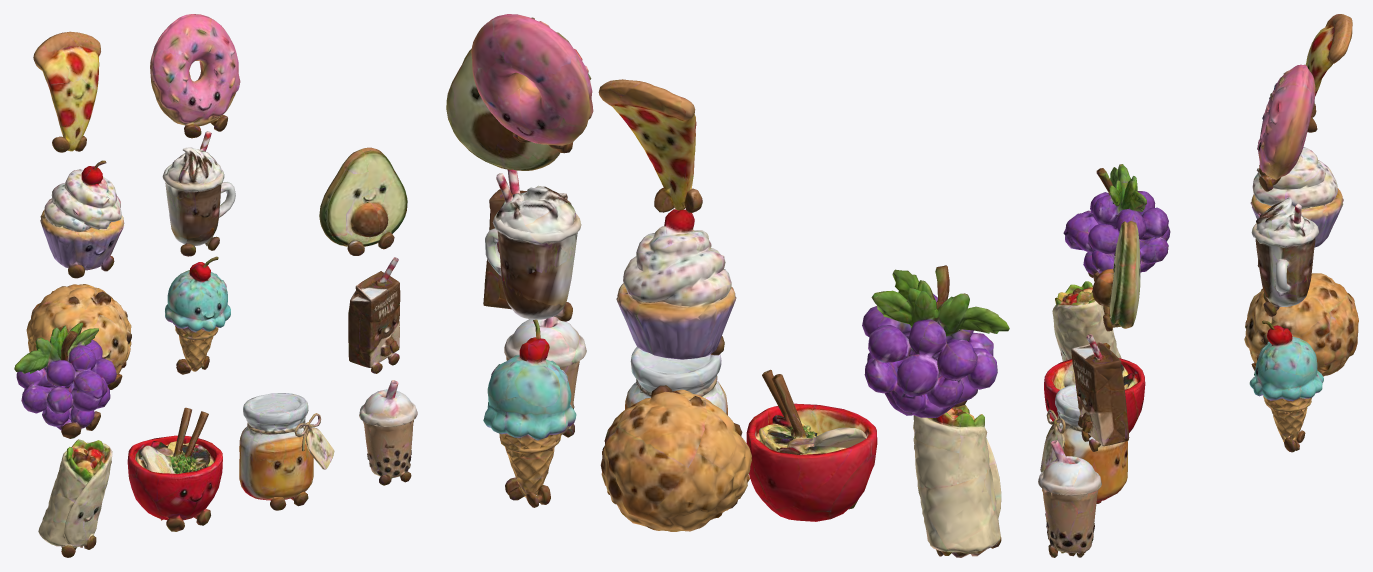
3 views of the same model, side by side, from view 1: azimuth 30°, elevation 25°; view 2: azimuth 150°, elevation 25°; view 3: azimuth 270°, elevation 25° (orthographic). The views are drawn at different scales.
Visible parts, largest first — view 1: Mesh 8, Mesh 7, Mesh 1, Mesh 4, Mesh 12, Mesh 5, Mesh 2, Mesh 6, Mesh 9, Mesh 3, Mesh 10, Mesh 14 (+1 smaller); view 2: Mesh 3, Mesh 1, Mesh 4, Mesh 5, Mesh 8, Mesh 2, Mesh 9, Mesh 10, Mesh 6, Mesh 12, Mesh 7, Mesh 13 (+1 smaller); view 3: Mesh 1, Mesh 3, Mesh 10, Mesh 9, Mesh 13, Mesh 14, Mesh 8, Mesh 5, Mesh 7, Mesh 12, Mesh 2, Mesh 4 (+1 smaller).
Part boxes in pixels (left/top/right/bottom): Mesh 8: left=150, top=14, right=240, bottom=138; Mesh 7: left=239, top=393, right=334, bottom=510; Mesh 1: left=14, top=322, right=116, bottom=438; Mesh 4: left=127, top=407, right=222, bottom=531; Mesh 12: left=319, top=147, right=407, bottom=255; Mesh 5: left=40, top=160, right=124, bottom=278; Mesh 2: left=38, top=439, right=112, bottom=557; Mesh 6: left=33, top=31, right=100, bottom=152; Mesh 9: left=162, top=131, right=235, bottom=256; Mesh 3: left=26, top=284, right=131, bottom=389; Mesh 10: left=165, top=256, right=230, bottom=374; Mesh 14: left=348, top=257, right=400, bottom=373; Mesh 3: left=600, top=385, right=751, bottom=531; Mesh 1: left=862, top=265, right=1009, bottom=417; Mesh 4: left=746, top=369, right=877, bottom=521; Mesh 5: left=616, top=209, right=736, bottom=359; Mesh 8: left=471, top=14, right=593, bottom=153; Mesh 2: left=913, top=405, right=1001, bottom=557; Mesh 9: left=485, top=173, right=581, bottom=321; Mesh 10: left=483, top=319, right=576, bottom=507; Mesh 6: left=598, top=79, right=702, bottom=212; Mesh 12: left=446, top=49, right=559, bottom=170; Mesh 7: left=625, top=347, right=727, bottom=415; Mesh 13: left=504, top=316, right=586, bottom=437; Mesh 1: left=1063, top=164, right=1170, bottom=281; Mesh 3: left=1244, top=273, right=1358, bottom=376; Mesh 10: left=1249, top=320, right=1323, bottom=452; Mesh 9: left=1251, top=197, right=1318, bottom=316; Mesh 13: left=1038, top=440, right=1101, bottom=557; Mesh 14: left=1071, top=334, right=1129, bottom=451; Mesh 8: left=1257, top=64, right=1315, bottom=191; Mesh 5: left=1250, top=147, right=1343, bottom=247; Mesh 7: left=1040, top=384, right=1127, bottom=503; Mesh 12: left=1092, top=221, right=1140, bottom=331; Mesh 2: left=1052, top=281, right=1121, bottom=361; Mesh 4: left=1044, top=343, right=1145, bottom=432.
Size of the model in its own units: 1.9 by 1.86 by 1.24.
Materials: 13 (13 with a texture image).
